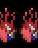eye: (18, 6, 38, 43), (0, 6, 17, 43)
